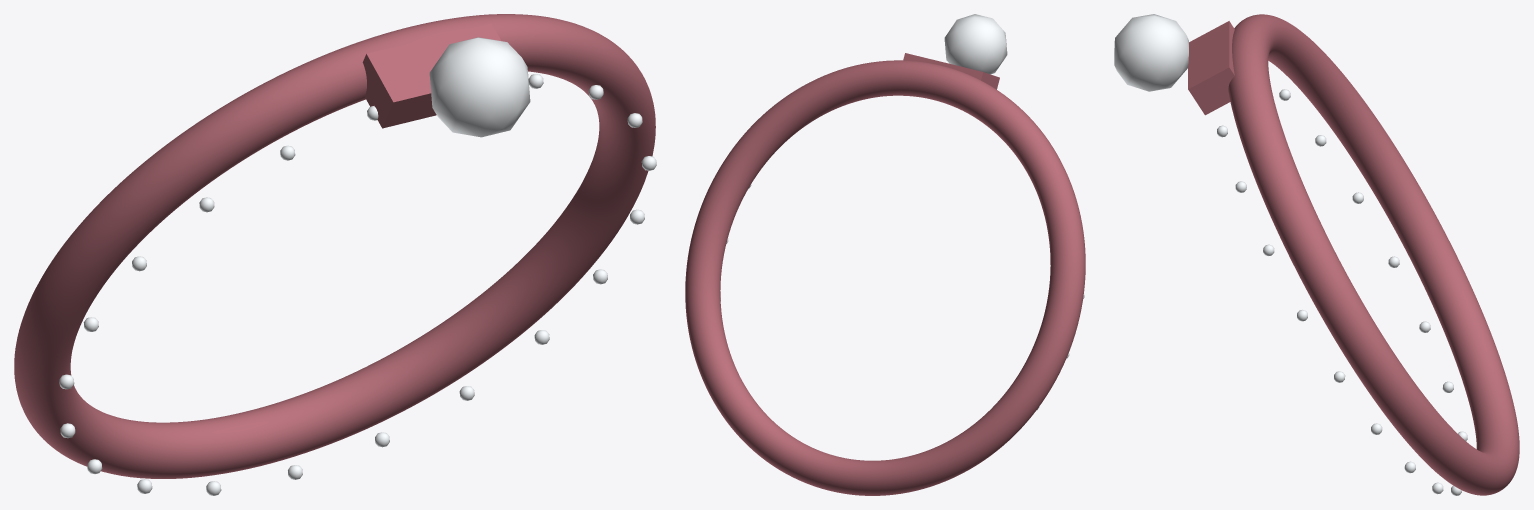
File: elara-butterfly-ring.glb
3 views of the same model, side by side, from view 1: azimuth 30°, elevation 25°; view 2: azimuth 150°, elevation 25°; view 3: azimuth 270°, elevation 25° (orthographic). The views are drawn at different scales.
Parts seen in each view (by area): view 1: gold_band, hero_gemstone, gold_setting; view 2: gold_band, hero_gemstone, gold_setting; view 3: gold_band, hero_gemstone, gold_setting.
Boxes of the visible parts, left/top/right/bottom form: gold_band: left=14, top=14, right=655, bottom=478; hero_gemstone: left=429, top=37, right=530, bottom=137; gold_setting: left=362, top=23, right=501, bottom=128; gold_band: left=685, top=60, right=1085, bottom=495; hero_gemstone: left=944, top=14, right=1007, bottom=74; gold_setting: left=903, top=53, right=999, bottom=89; gold_band: left=1228, top=14, right=1519, bottom=495; hero_gemstone: left=1114, top=14, right=1188, bottom=91; gold_setting: left=1188, top=21, right=1234, bottom=115.
Size of the model in its own units: 2.24 by 2.09 by 1.69.
